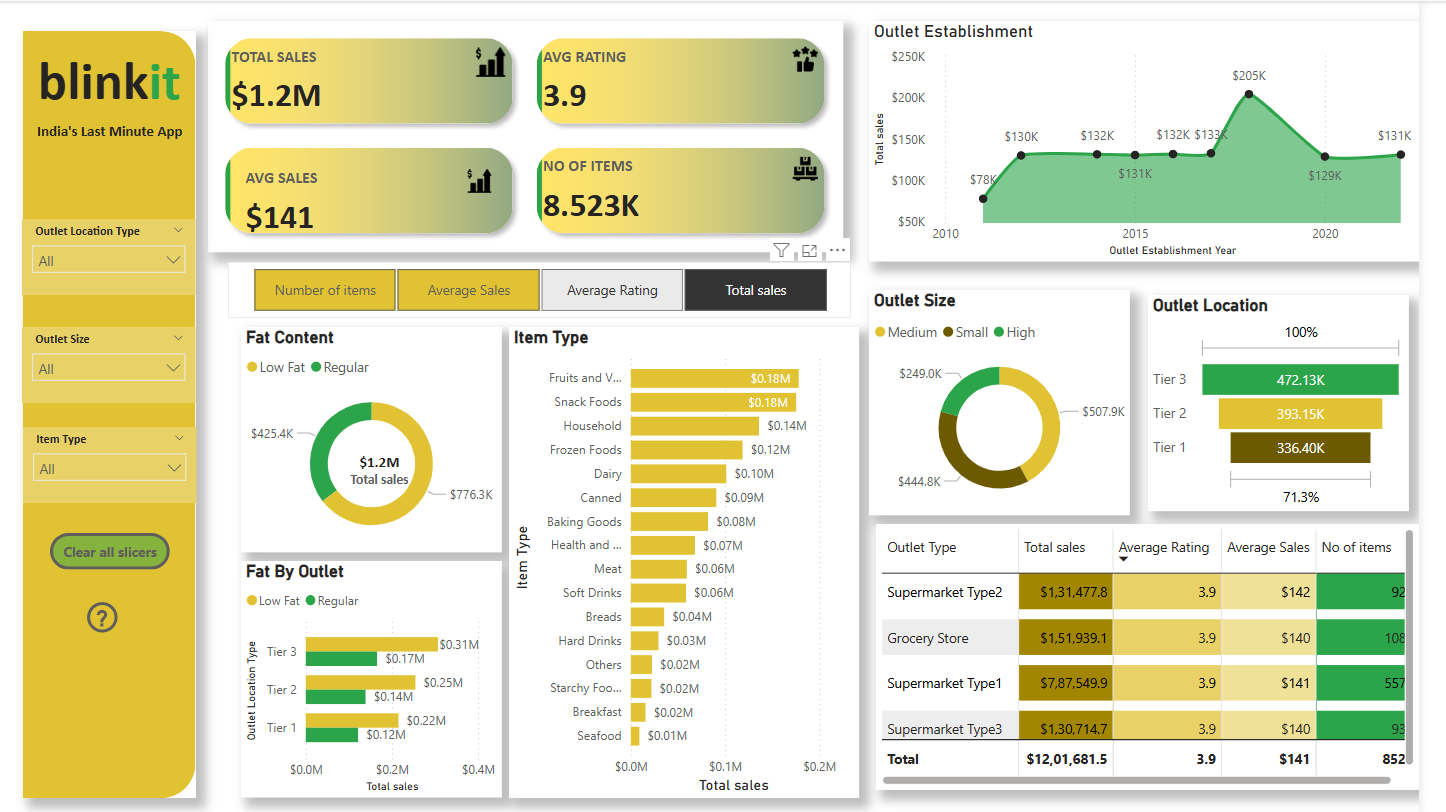

Layout of this report page (visuals, bound fields, positions):
{"tool":"powerbi","page":{"name":"Page 1","canvas":[1400,800],"ordinal":0},"visuals":[{"type":"shape","box":[24.6,29.6,170.4,755.7],"z":0},{"type":"textbox","box":[12.8,40.4,194.1,81.8],"z":1000},{"type":"textbox","box":[33.5,114.3,185.2,47.3],"z":2000},{"type":"textbox","box":[247,22,194,756],"z":3000},{"type":"cardVisual","fields":{"Data":["BlinkIT Grocery Data.Total sales","BlinkIT Grocery Data.Average Rating","BlinkIT Grocery Data.Average Sales","BlinkIT Grocery Data.Number of items"]},"box":[206.9,19.7,625.6,227.6],"z":4000},{"type":"donutChart","title":"Fat Content","fields":{"Y":["BlinkIT Grocery Data.Total sales"],"Category":["BlinkIT Grocery Data.Item Fat Content"]},"box":[239.4,321.2,257.1,221.7],"z":5000},{"type":"slicer","fields":{"Values":["Metrics.Metrics"]},"box":[226.6,257.1,613.8,55.2],"z":6000},{"type":"cardVisual","fields":{"Data":["BlinkIT Grocery Data.Total sales"]},"box":[319.2,419.7,113.3,68],"z":7000},{"type":"clusteredBarChart","title":"Fat By Outlet","fields":{"Y":["BlinkIT Grocery Data.Total sales"],"Category":["BlinkIT Grocery Data.Outlet Location Type"],"Series":["BlinkIT Grocery Data.Item Fat Content"]},"box":[239.4,551.7,257.1,233.5],"z":8000},{"type":"barChart","title":"Item Type","fields":{"Y":["BlinkIT Grocery Data.Total sales"],"Category":["BlinkIT Grocery Data.Item Type"]},"box":[503.4,321.2,344.8,464],"z":9000},{"type":"lineChart","title":"Outlet Establishment","fields":{"Y":["BlinkIT Grocery Data.Total sales"],"Category":["BlinkIT Grocery Data.Outlet Establishment Year"]},"box":[858.1,19.7,541.9,237.4],"z":10000},{"type":"donutChart","title":"Outlet Size","fields":{"Y":["BlinkIT Grocery Data.Total sales"],"Category":["BlinkIT Grocery Data.Outlet Size"]},"box":[858.1,284.7,257.1,221.7],"z":11000},{"type":"funnel","title":"Outlet Location","fields":{"Y":["Sum(BlinkIT Grocery Data.Sales)"],"Category":["BlinkIT Grocery Data.Outlet Location Type"]},"box":[1133,289.7,257.1,212.8],"z":12000},{"type":"tableEx","fields":{"Values":["BlinkIT Grocery Data.Outlet Type","BlinkIT Grocery Data.Total sales","BlinkIT Grocery Data.Average Rating","BlinkIT Grocery Data.Average Sales","BlinkIT Grocery Data.No of items"]},"box":[865,515.3,535,262.1],"z":13000},{"type":"slicer","fields":{"Values":["BlinkIT Grocery Data.Outlet Location Type"]},"box":[23.6,214.8,171.4,74.9],"z":14000},{"type":"slicer","fields":{"Values":["BlinkIT Grocery Data.Outlet Size"]},"box":[23.6,321.2,171.4,74.9],"z":15000},{"type":"slicer","fields":{"Values":["BlinkIT Grocery Data.Item Type"]},"box":[24.6,419.7,171.4,74.9],"z":16000},{"type":"actionButton","box":[51.2,524.1,118.2,36.5],"z":17000},{"type":"actionButton","box":[82.8,587.2,99.5,40.4],"z":18000}]}

Visuals, with their boxes in screenshot pixels (x1, y1, x2, y2), scaled from the page's 1400x800 canvas onto the 1446x812 screenshot:
shape: Rect(25, 30, 201, 797)
textbox: Rect(13, 41, 214, 124)
textbox: Rect(35, 116, 226, 164)
textbox: Rect(255, 22, 455, 790)
cardVisual - BlinkIT Grocery Data.Total sales x BlinkIT Grocery Data.Average Rating: Rect(214, 20, 860, 251)
"Fat Content" donutChart: Rect(247, 326, 513, 551)
slicer - Metrics.Metrics: Rect(234, 261, 868, 317)
cardVisual - BlinkIT Grocery Data.Total sales: Rect(330, 426, 447, 495)
"Fat By Outlet" clusteredBarChart: Rect(247, 560, 513, 797)
"Item Type" barChart: Rect(520, 326, 876, 797)
"Outlet Establishment" lineChart: Rect(886, 20, 1445, 261)
"Outlet Size" donutChart: Rect(886, 289, 1152, 514)
"Outlet Location" funnel: Rect(1170, 294, 1436, 510)
tableEx - BlinkIT Grocery Data.Outlet Type x BlinkIT Grocery Data.Total sales: Rect(893, 523, 1445, 789)
slicer - BlinkIT Grocery Data.Outlet Location Type: Rect(24, 218, 201, 294)
slicer - BlinkIT Grocery Data.Outlet Size: Rect(24, 326, 201, 402)
slicer - BlinkIT Grocery Data.Item Type: Rect(25, 426, 202, 502)
actionButton: Rect(53, 532, 175, 569)
actionButton: Rect(86, 596, 188, 637)
